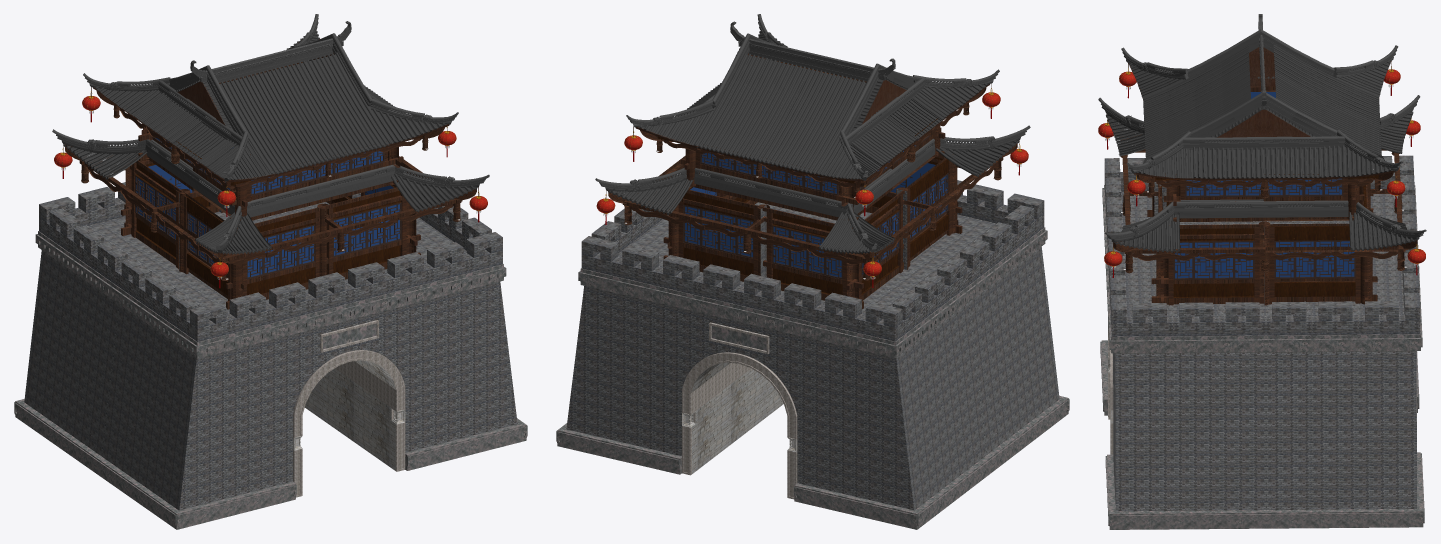
3 views of the same model, side by side, from view 1: azimuth 30°, elevation 25°; view 2: azimuth 150°, elevation 25°; view 3: azimuth 270°, elevation 25° (orthographic).
Visible parts, largest first — view 1: 组#69.002; view 2: 组#69.002; view 3: 组#69.002.
Part boxes in pixels (box(x1,y1,x2,y2)): 组#69.002: box(14, 14, 527, 529); 组#69.002: box(556, 14, 1069, 529); 组#69.002: box(1098, 14, 1426, 529).
Bounding box in the file's own units: 26.69 × 27.33 × 20.91.
19 materials, 13 textured.
